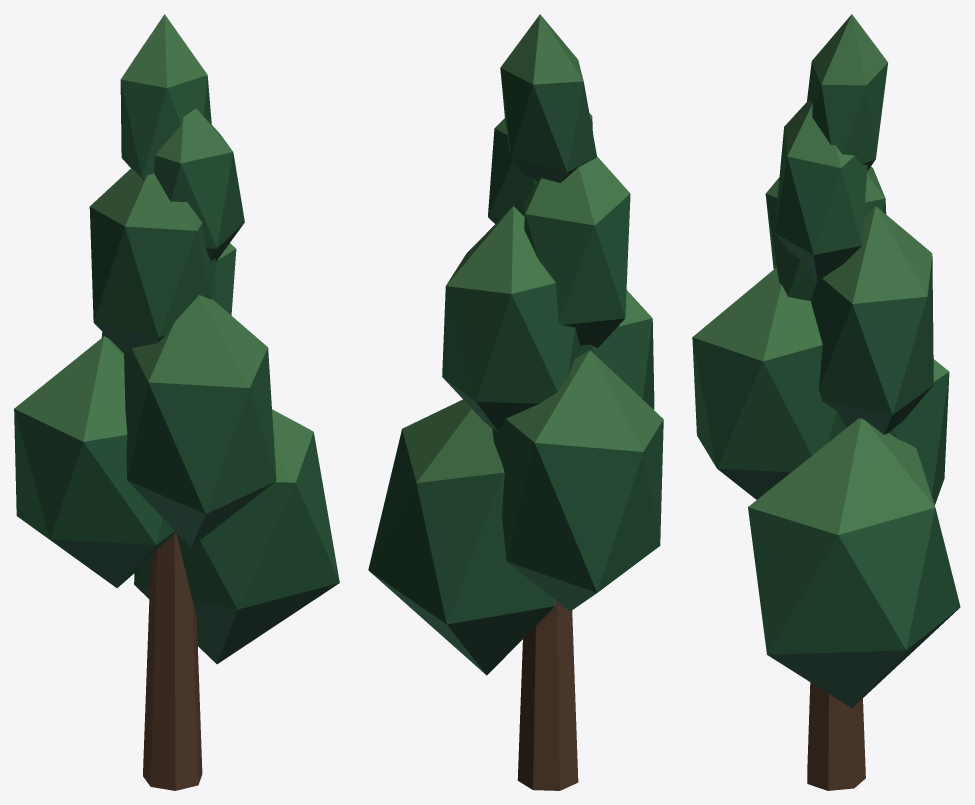
Rendered from pine.glb.
3 views of the same model, side by side, from view 1: azimuth 30°, elevation 25°; view 2: azimuth 150°, elevation 25°; view 3: azimuth 270°, elevation 25° (orthographic).
Parts seen in each view (by area): view 1: pine; view 2: pine; view 3: pine.
Part boxes in pixels (<box>): pine: <box>14,14,339,790</box>; pine: <box>368,14,663,790</box>; pine: <box>692,14,960,790</box>.
Bounding box in the file's own units: 5.57 × 15.02 × 4.78.
